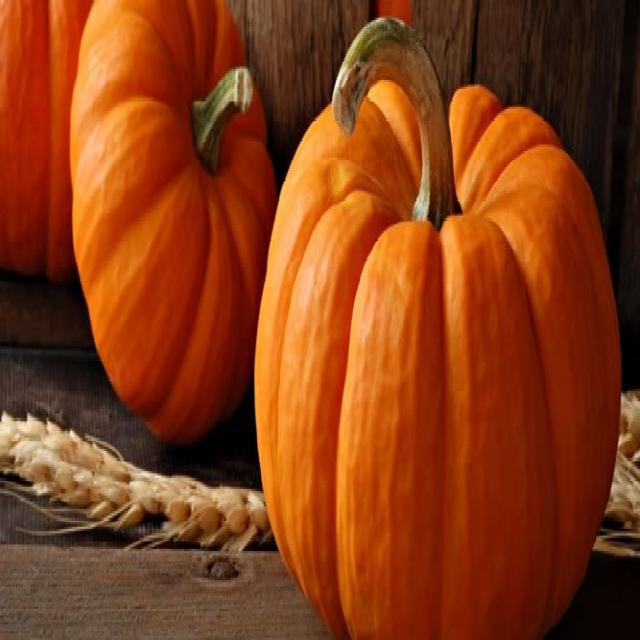pumpkin: (255, 20, 620, 637), (70, 0, 276, 441), (0, 0, 91, 279)
